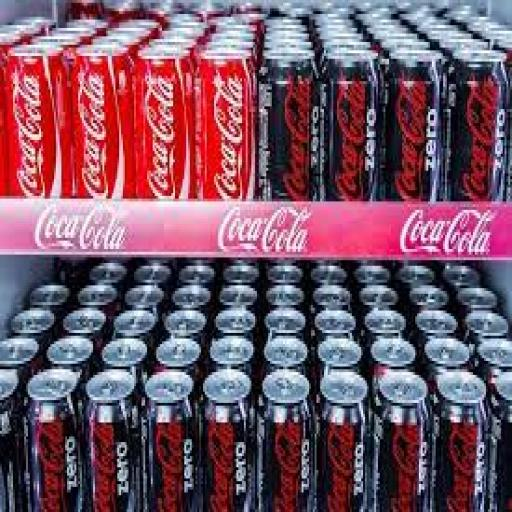Coca: (134, 39, 196, 241), (197, 42, 258, 242), (72, 40, 133, 234), (6, 43, 68, 232)
